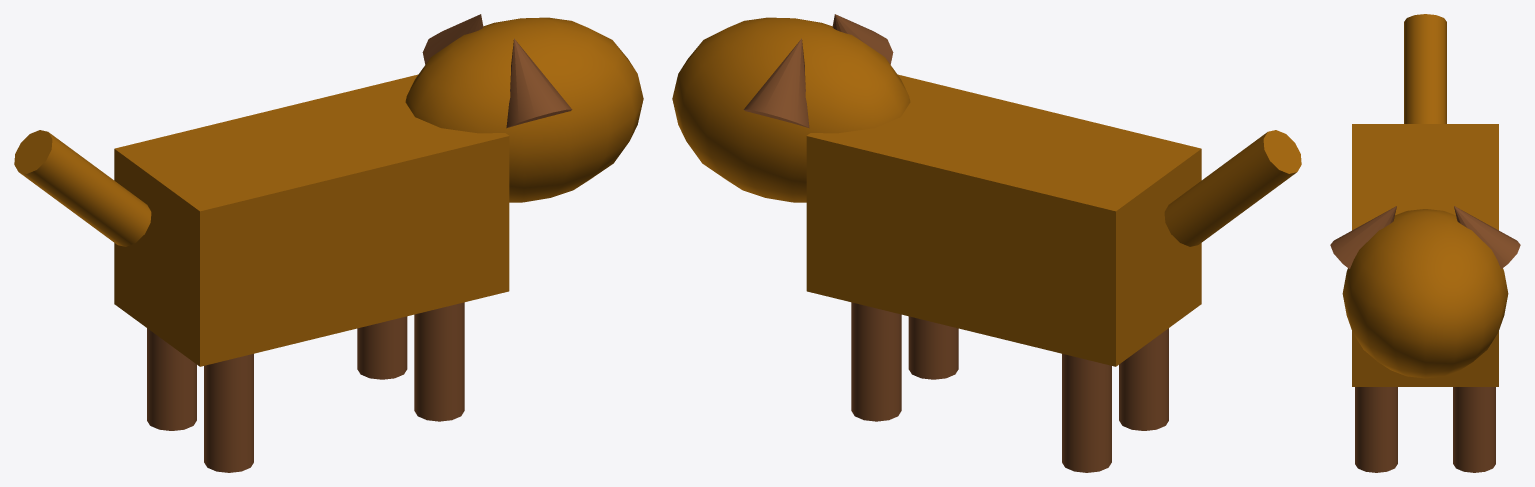
3 views of the same model, side by side, from view 1: azimuth 30°, elevation 25°; view 2: azimuth 150°, elevation 25°; view 3: azimuth 270°, elevation 25° (orthographic). The views are drawn at different scales.
Visible parts, largest first — view 1: dog-standing; view 2: dog-standing; view 3: dog-standing.
Part boxes in pixels (x1,y1,x2,y2): dog-standing: [14, 14, 643, 472]; dog-standing: [672, 14, 1301, 472]; dog-standing: [1330, 14, 1520, 472].
Size of the model in its own units: 0.9939 by 0.5355 by 0.3103.
